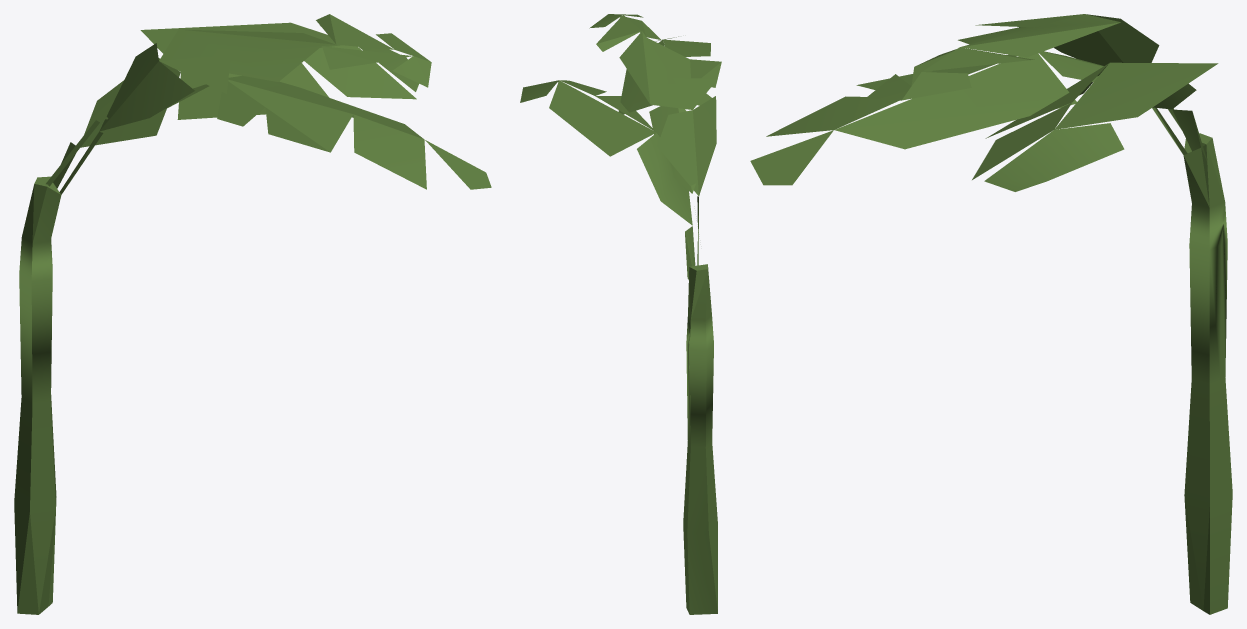
The model's file is Tree_Bamboo_06.fbx.
3 renders of one model, left to right at view 1: azimuth 30°, elevation 25°; view 2: azimuth 150°, elevation 25°; view 3: azimuth 270°, elevation 25°, orthographic. The views are drawn at different scales.
Parts seen in each view (by area): view 1: Tree_Bamboo_06; view 2: Tree_Bamboo_06; view 3: Tree_Bamboo_06.
Boxes of the visible parts, x1,y1,x2,y2 form: Tree_Bamboo_06: (14, 14, 491, 614); Tree_Bamboo_06: (520, 14, 721, 614); Tree_Bamboo_06: (750, 14, 1232, 614).
Bounding box in the file's own units: 65.77 × 119 × 78.8.
